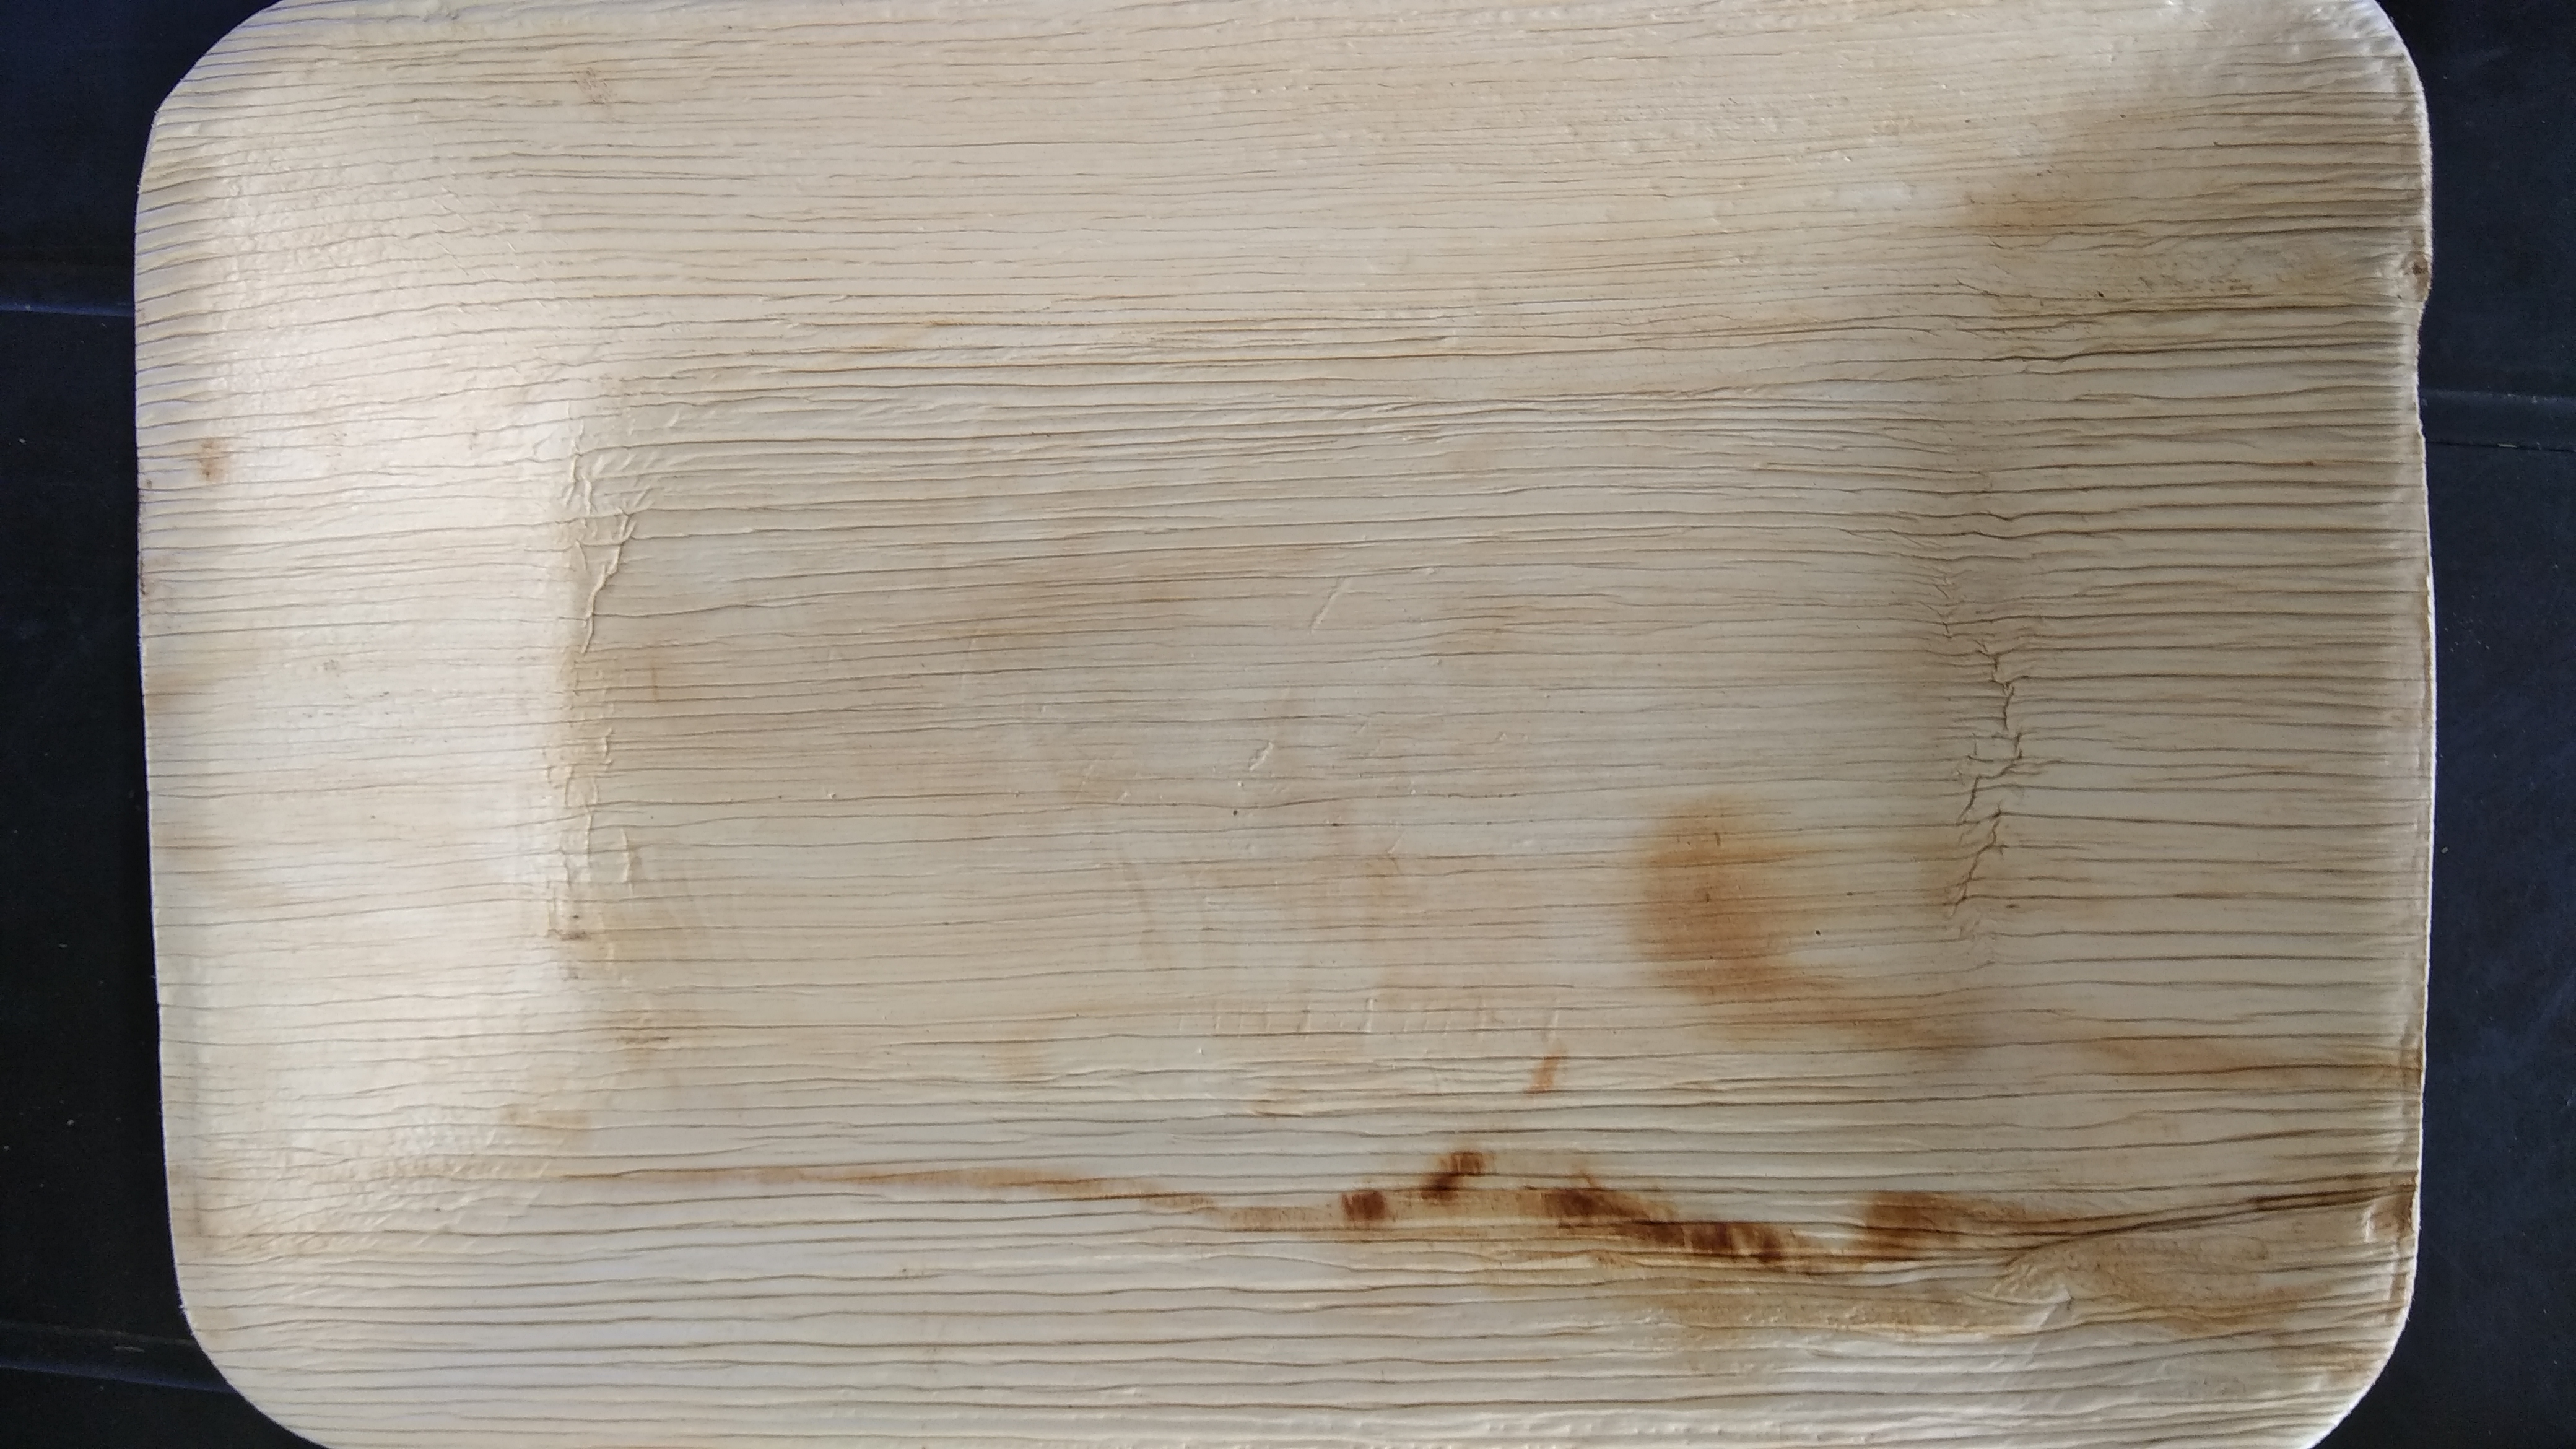areca plate: (117, 27, 2438, 1449)
